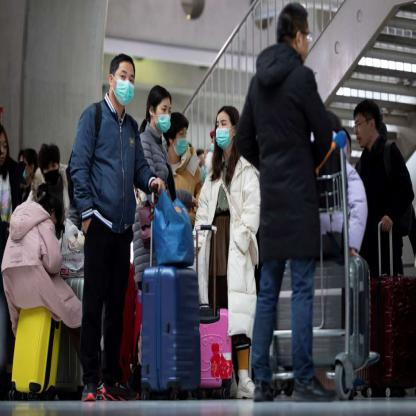Not_Wearing_Mask: (353, 118, 369, 146), (302, 29, 312, 59), (0, 136, 8, 168)
Wearing_Mask: (112, 68, 135, 107), (214, 118, 232, 149), (154, 102, 171, 133), (42, 160, 59, 185), (173, 128, 187, 156)
